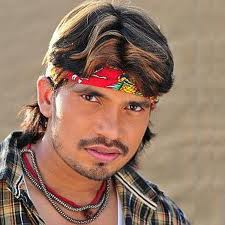bad: (55, 68, 163, 175)
